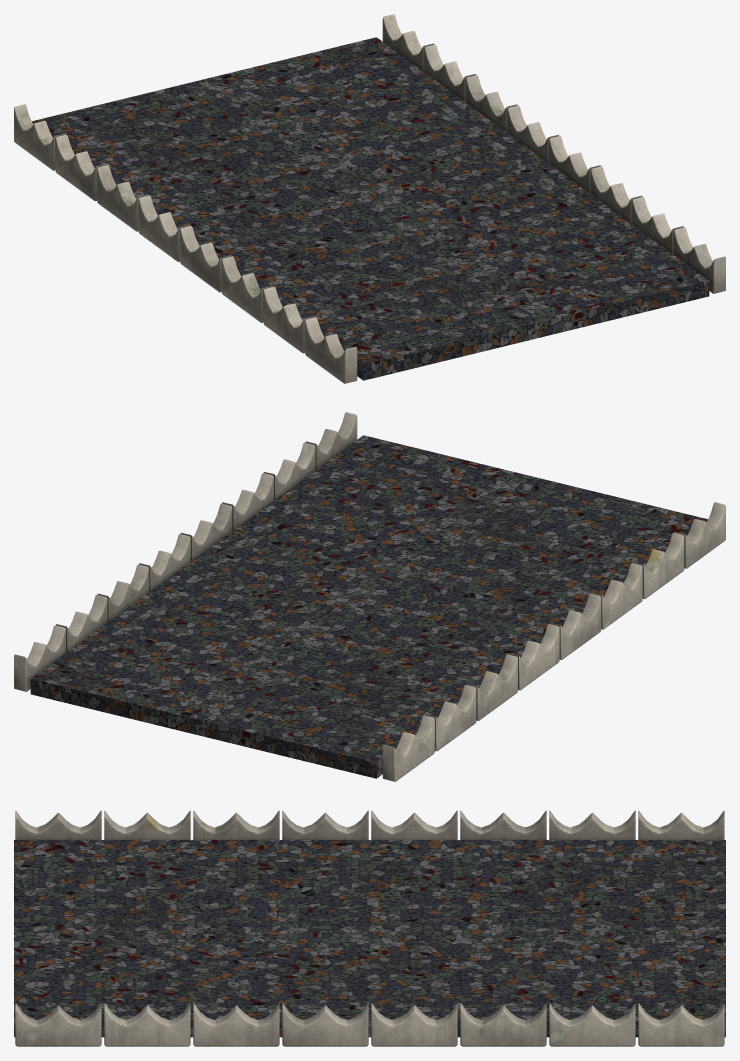
The model's file is PathGravel.fbx.
3 renders of one model, top to bottom at view 1: azimuth 30°, elevation 25°; view 2: azimuth 150°, elevation 25°; view 3: azimuth 270°, elevation 25°, orthographic. The views are drawn at different scales.
Visible parts, largest first — view 1: PathGravel_Path, PathGravel_Main; view 2: PathGravel_Path, PathGravel_Main; view 3: PathGravel_Path, PathGravel_Main.
Part boxes in pixels (x1=…): PathGravel_Path: x1=32, y1=37, x2=709, y2=380; PathGravel_Main: x1=14, y1=14, x2=725, y2=383; PathGravel_Path: x1=30, y1=435, x2=707, y2=778; PathGravel_Main: x1=14, y1=412, x2=725, y2=781; PathGravel_Path: x1=14, y1=840, x2=725, y2=1037; PathGravel_Main: x1=15, y1=810, x2=724, y2=1046.
Size of the model in its own units: 662 by 58.6 by 1000.
